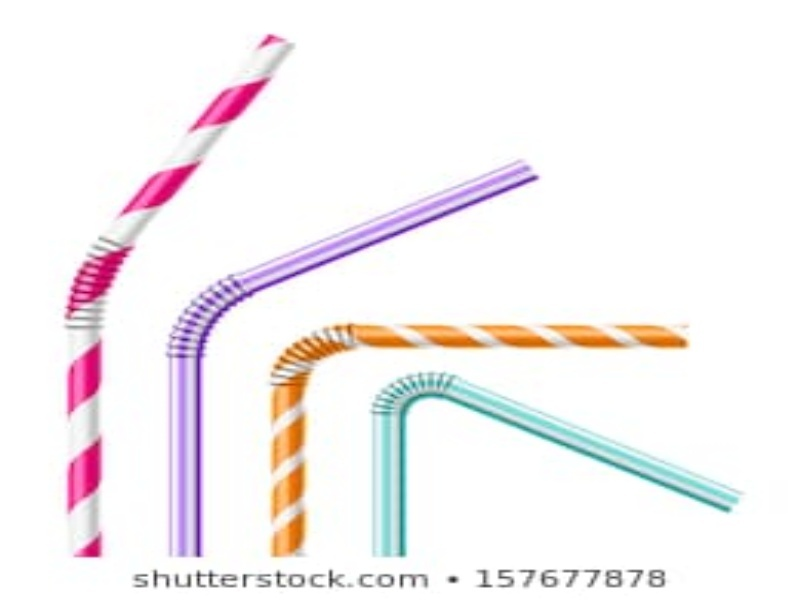straw: (163, 157, 540, 557), (64, 32, 297, 556), (265, 318, 693, 557), (368, 371, 743, 559)
